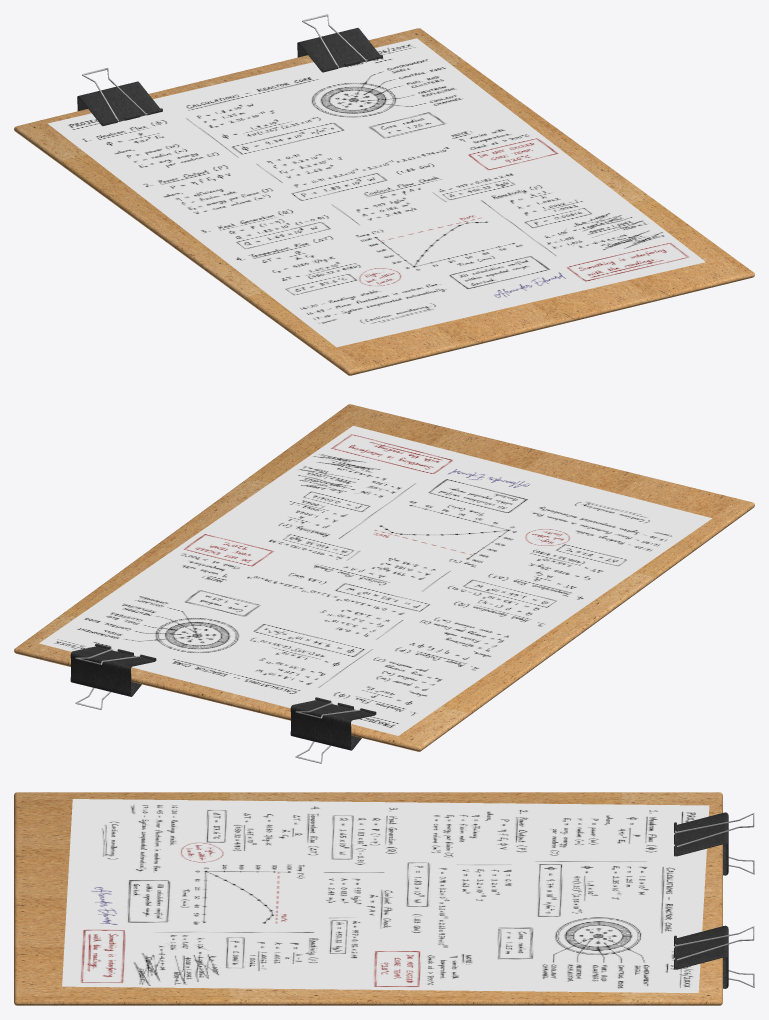
Rendered from CalculationPaperPad.fbx.
3 renders of one model, top to bottom at view 1: azimuth 30°, elevation 25°; view 2: azimuth 150°, elevation 25°; view 3: azimuth 270°, elevation 25°, orthographic. The views are drawn at different scales.
Visible parts, largest first — view 1: Paper, Pad, Clip2, Clip1; view 2: Paper, Pad, Clip1, Clip2; view 3: Paper, Pad, Clip1, Clip2.
Boxes of the visible parts, x1=… form: Paper: x1=48, y1=38, x2=705, y2=347; Pad: x1=14, y1=28, x2=754, y2=375; Clip2: x1=297, y1=28, x2=382, y2=72; Clip1: x1=77, y1=81, x2=162, y2=125; Paper: x1=39, y1=425, x2=711, y2=735; Pad: x1=14, y1=404, x2=754, y2=751; Clip1: x1=290, y1=697, x2=376, y2=750; Clip2: x1=70, y1=643, x2=156, y2=696; Paper: x1=62, y1=799, x2=709, y2=992; Pad: x1=14, y1=792, x2=722, y2=1005; Clip1: x1=674, y1=812, x2=728, y2=875; Clip2: x1=674, y1=925, x2=728, y2=988.
Size of the model in its own units: 33.97 by 3.66 by 50.71.
Materials: 4 (4 with a texture image).
